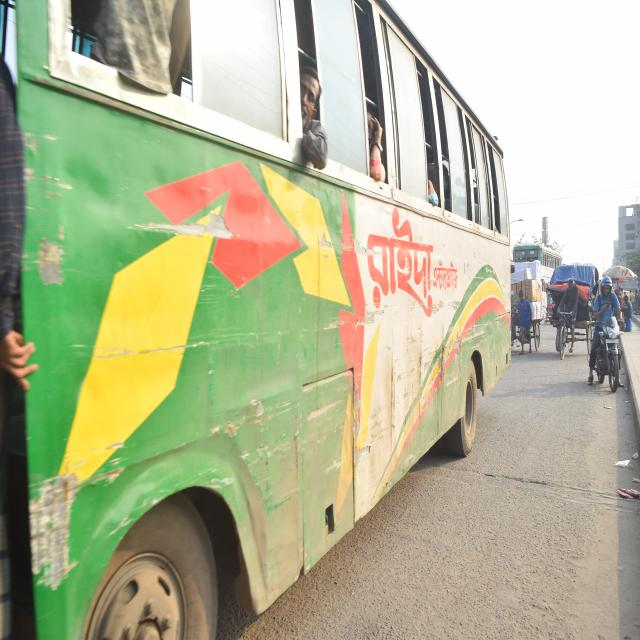bus: (0, 0, 518, 640), (514, 239, 562, 289)
motorbike: (586, 290, 629, 400)
